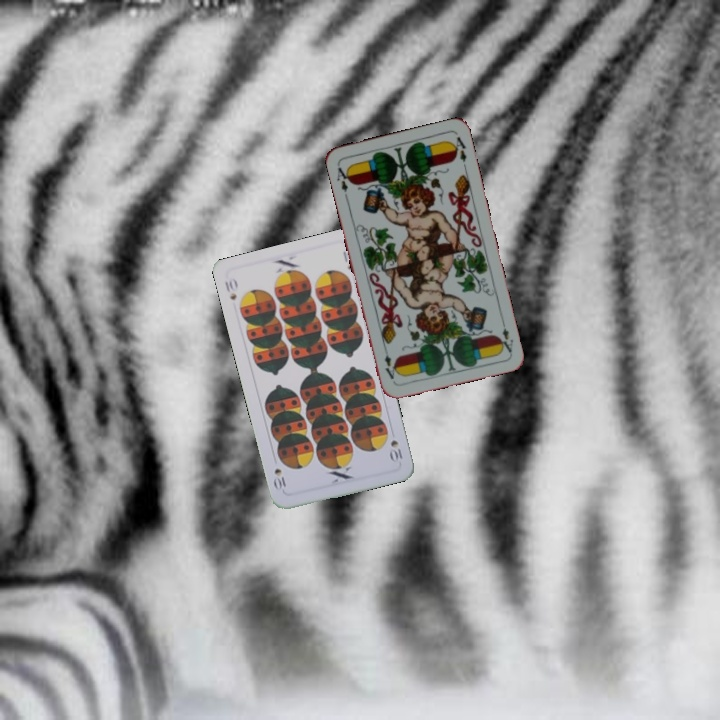EA: (495, 315, 516, 355), (333, 161, 354, 194)
S10: (386, 436, 405, 465), (221, 274, 240, 303)
